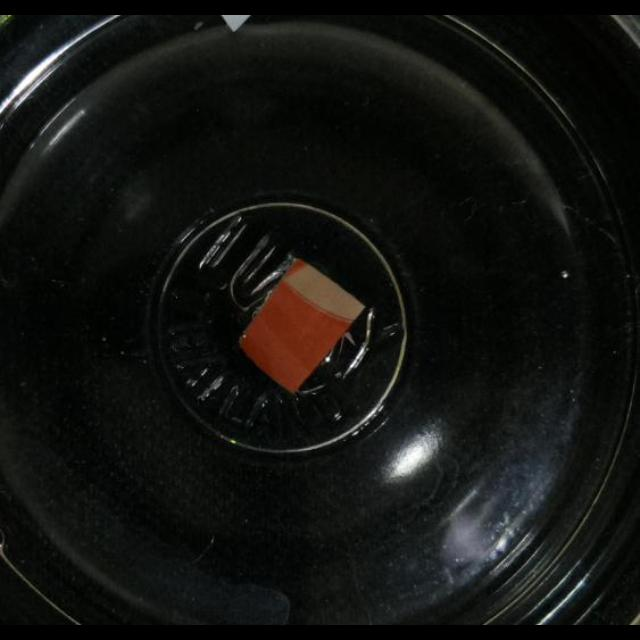Fragment: (240, 259, 362, 395), (215, 16, 252, 36)
